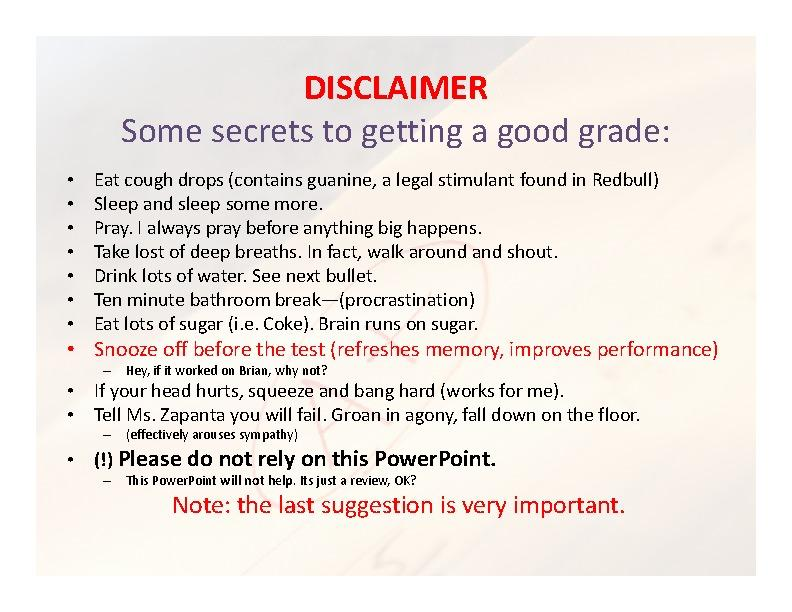paragraph: (85, 163, 738, 525)
subtitle: (114, 109, 678, 160)
title: (290, 68, 500, 104)
